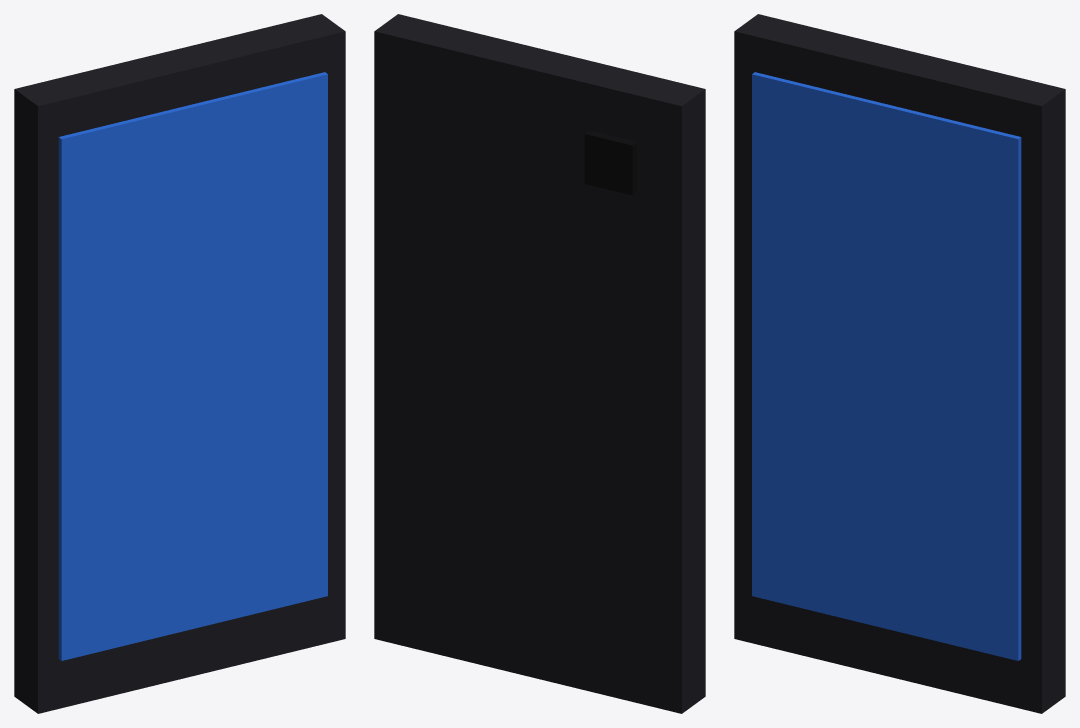
Rendered from phone.obj.
3 views of the same model, side by side, from view 1: azimuth 30°, elevation 25°; view 2: azimuth 150°, elevation 25°; view 3: azimuth 330°, elevation 25° (orthographic).
Parts seen in each view (by area): view 1: Screen, Body; view 2: Body, Camera; view 3: Screen, Body.
Part boxes in pixels (x1,y1,x2,y2): Screen: (58,72,327,660); Body: (14,14,345,713); Body: (374,14,705,713); Camera: (584,130,637,195); Screen: (752,72,1021,660); Body: (734,14,1065,713).
Size of the model in its own units: 0.9 by 1.7 by 0.16.
